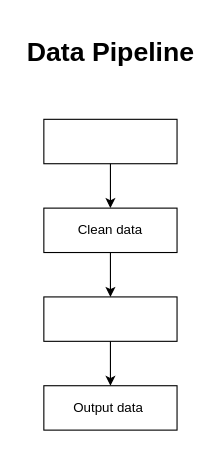
Image size: 221x450. Some labels were removed from this diagram. Each missing label, with the centre of its shape:
"Data transformation" goes at pixel 110 318.
"Download dataset" goes at pixel 110 141.
